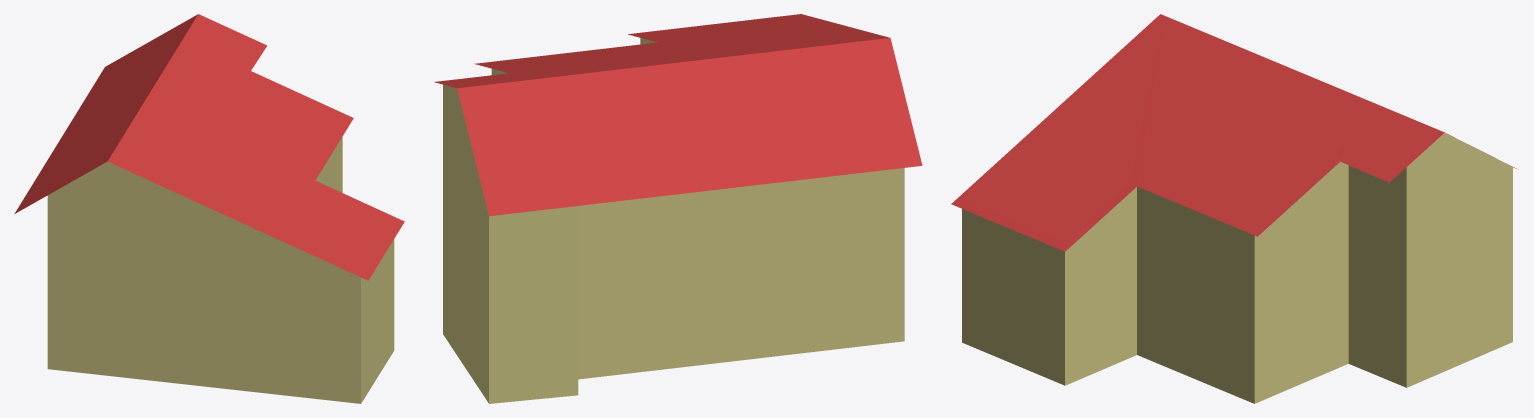
3 views of the same model, side by side, from view 1: azimuth 30°, elevation 25°; view 2: azimuth 150°, elevation 25°; view 3: azimuth 270°, elevation 25° (orthographic). The views are drawn at different scales.
Size of the model in its own units: 21.76 by 27.68 by 12.89.
